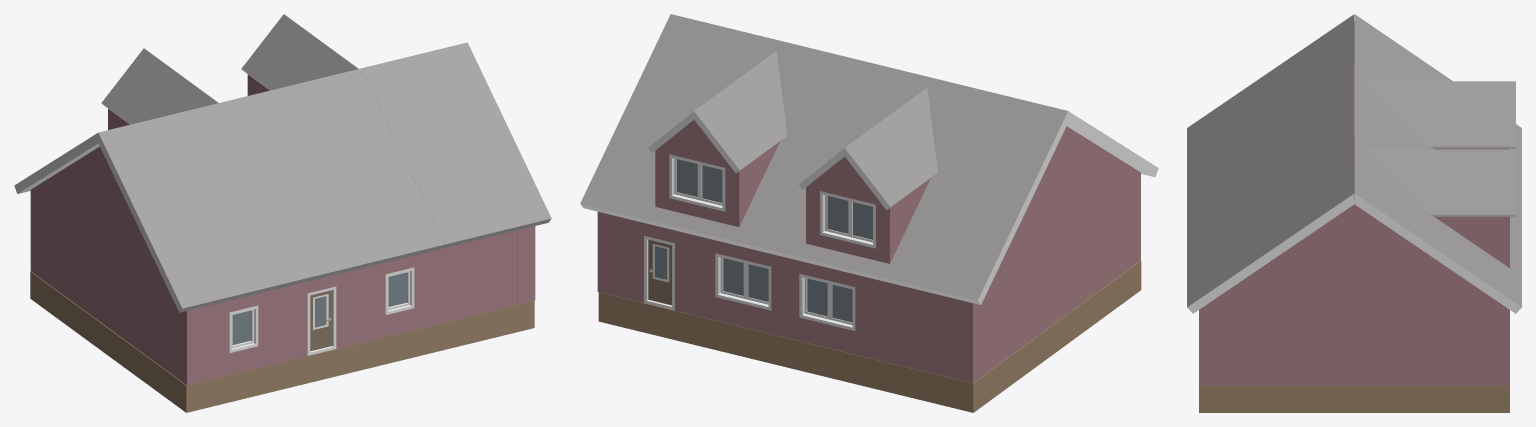
Rendered from House4.fbx.
The picture shows the model from 3 angles, left to right: view 1: azimuth 30°, elevation 25°; view 2: azimuth 150°, elevation 25°; view 3: azimuth 270°, elevation 25°; orthographic projection. The views are drawn at different scales.
Visible parts, largest first — view 1: Cube__11_.003; view 2: Cube__11_.003; view 3: Cube__11_.003.
Boxes of the visible parts, box(x1,y1,x2,y2) form: Cube__11_.003: box(14, 14, 551, 412); Cube__11_.003: box(580, 14, 1158, 412); Cube__11_.003: box(1187, 14, 1521, 412).
Bounding box in the file's own units: 1427 × 834 × 1126.
